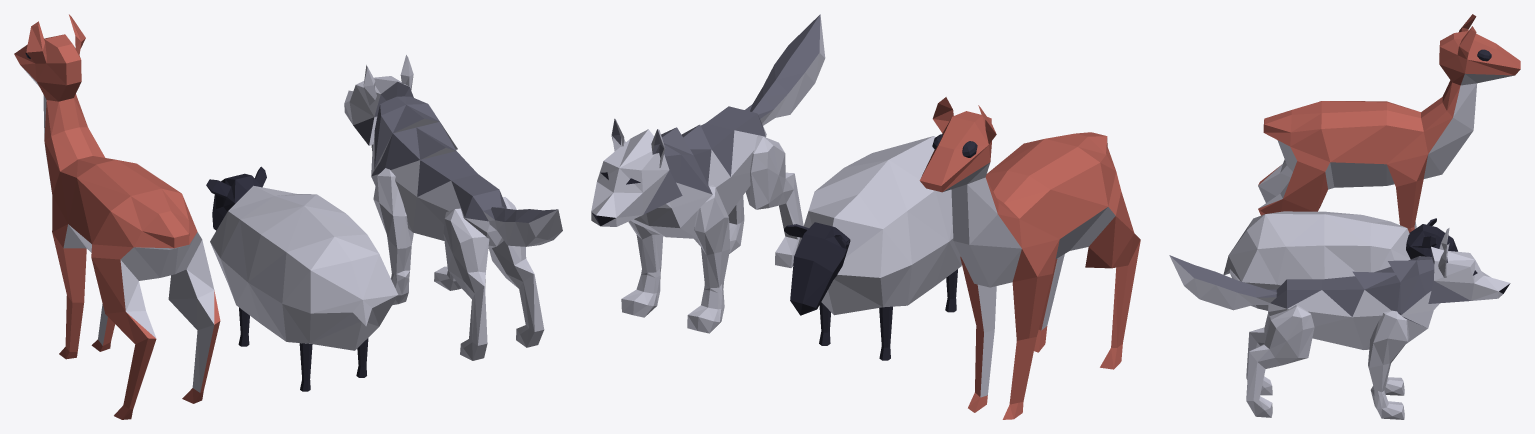
The model's file is Animals_1.dae.
The picture shows the model from 3 angles, left to right: view 1: azimuth 30°, elevation 25°; view 2: azimuth 150°, elevation 25°; view 3: azimuth 270°, elevation 25°; orthographic projection. The views are drawn at different scales.
Visible parts, largest first — view 1: Deer, Wolf01Body, Sheep; view 2: Deer, Wolf01Body, Sheep; view 3: Wolf01Body, Deer, Sheep.
Part boxes in pixels (x1,y1,x2,y2): Deer: (14, 14, 220, 419); Wolf01Body: (344, 55, 562, 360); Sheep: (206, 166, 398, 391); Deer: (919, 97, 1140, 419); Wolf01Body: (591, 14, 825, 333); Sheep: (784, 136, 961, 360); Wolf01Body: (1169, 228, 1510, 419); Deer: (1258, 14, 1520, 232); Sheep: (1223, 211, 1457, 310).
Bounding box in the file's own units: 5.23 × 4.69 × 3.79.
